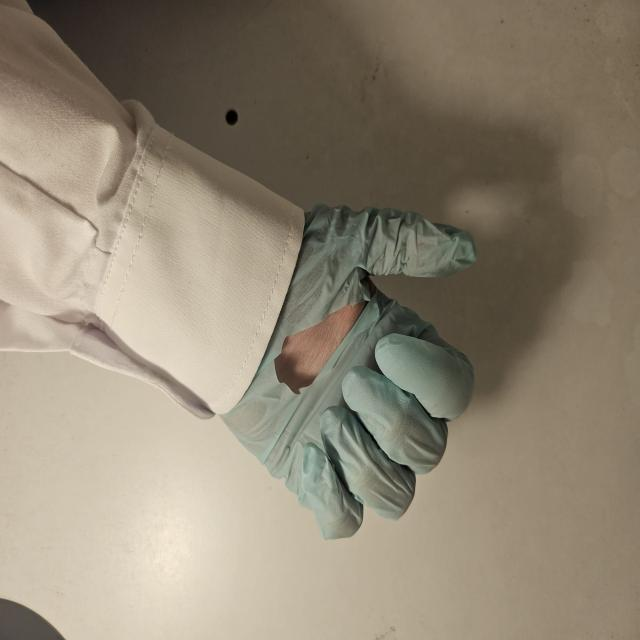gloves_damaged: (221, 202, 482, 542)
